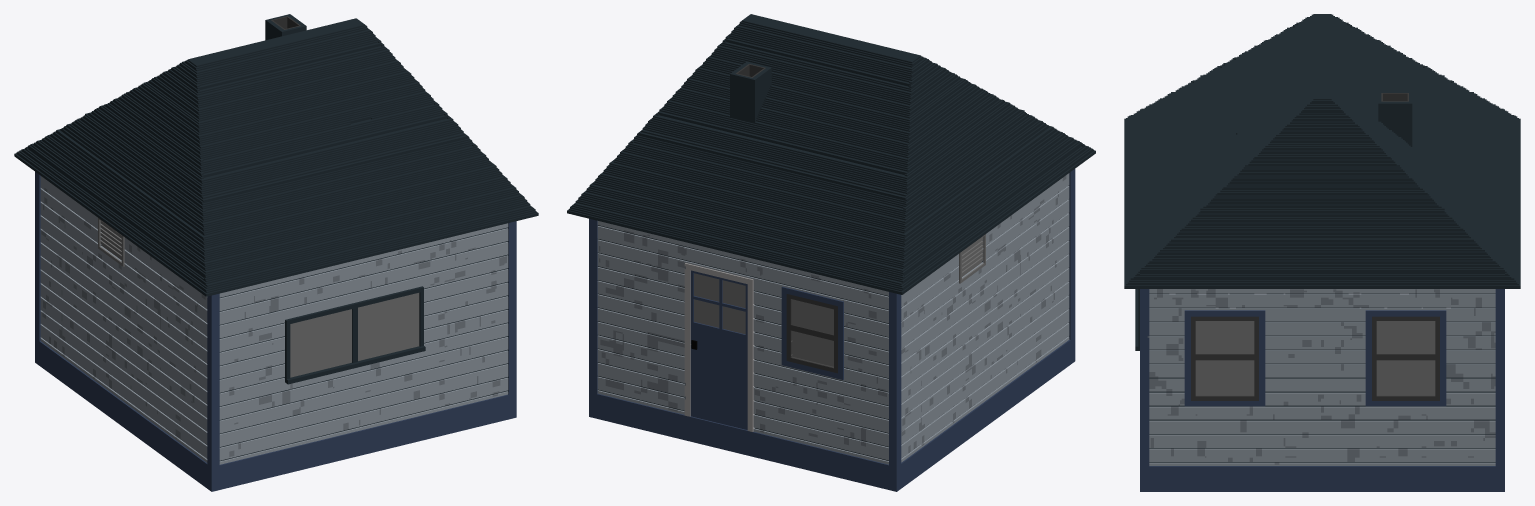
Rendered from home23.obj.
3 views of the same model, side by side, from view 1: azimuth 30°, elevation 25°; view 2: azimuth 150°, elevation 25°; view 3: azimuth 270°, elevation 25° (orthographic). The views are drawn at different scales.
Visible parts, largest first — view 1: home1-5; view 2: home1-5; view 3: home1-5.
Boxes of the visible parts, x1,y1,x2,y2 form: home1-5: [14, 14, 538, 491]; home1-5: [567, 14, 1095, 491]; home1-5: [1124, 14, 1520, 491].
Bounding box in the file's own units: 25.6 × 25.6 × 25.6.
Materials: 1 (1 with a texture image).
